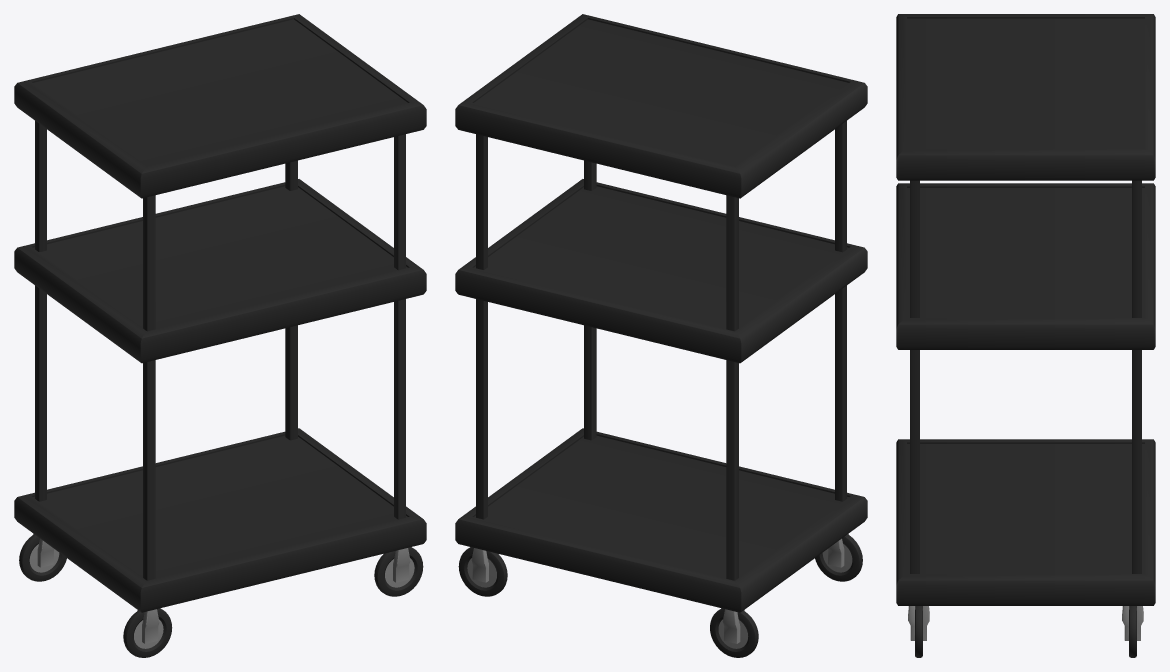
File: rolling_tray.glb
3 renders of one model, left to right at view 1: azimuth 30°, elevation 25°; view 2: azimuth 150°, elevation 25°; view 3: azimuth 270°, elevation 25°, orthographic. The views are drawn at different scales.
Parts seen in each view (by area): view 1: Cube.092, Cylinder.064, Cube.093; view 2: Cube.092, Cylinder.064, Cube.093; view 3: Cube.092, Cylinder.064, Cube.093.
Boxes of the visible parts, x1,y1,x2,y2 form: Cube.092: [14, 14, 426, 612]; Cylinder.064: [19, 534, 423, 657]; Cube.093: [33, 534, 410, 643]; Cube.092: [455, 14, 867, 612]; Cylinder.064: [458, 534, 862, 657]; Cube.093: [471, 534, 848, 643]; Cube.092: [896, 14, 1155, 605]; Cylinder.064: [915, 606, 1136, 657]; Cube.093: [908, 606, 1143, 640].
Size of the model in its own units: 0.8788 by 1.4 by 0.6451.
2 materials, 2 textured.
